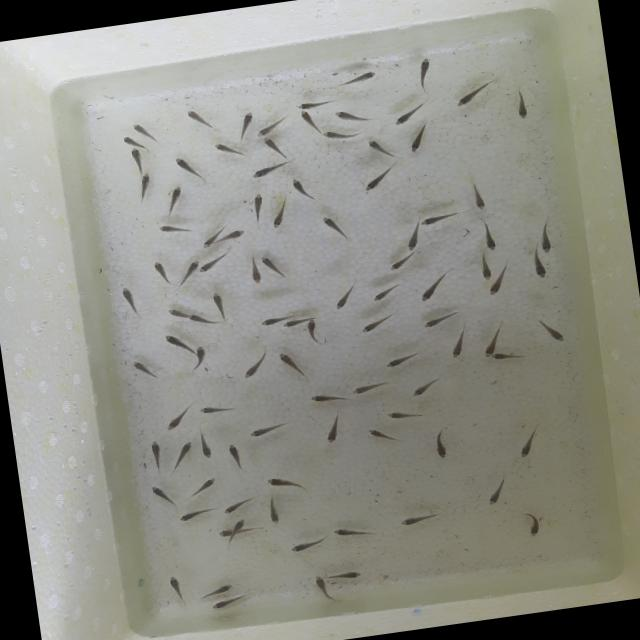fingerling: (270, 344, 316, 385), (388, 96, 432, 128), (264, 470, 314, 498), (159, 401, 200, 434), (412, 270, 452, 303), (408, 55, 440, 95), (451, 81, 497, 108), (319, 210, 349, 248), (381, 348, 428, 371), (331, 521, 378, 544), (236, 350, 272, 380), (218, 493, 266, 515), (413, 311, 465, 331), (283, 534, 331, 555), (384, 404, 429, 426), (318, 411, 348, 444), (210, 140, 250, 164), (485, 266, 517, 296), (358, 311, 398, 335), (483, 474, 513, 506), (518, 508, 546, 542), (334, 70, 381, 90), (475, 322, 499, 361), (516, 424, 542, 460), (310, 571, 339, 603), (509, 88, 536, 122), (362, 167, 398, 192), (329, 282, 359, 312), (167, 440, 197, 470), (417, 210, 469, 227), (252, 117, 294, 138), (246, 162, 294, 180), (331, 106, 376, 125), (208, 592, 255, 610), (322, 126, 364, 146), (269, 197, 293, 232), (188, 475, 228, 496), (258, 252, 290, 278), (398, 511, 444, 529), (175, 258, 202, 288), (130, 355, 160, 382), (147, 479, 177, 506), (246, 194, 271, 226), (155, 220, 195, 240), (248, 420, 288, 440), (217, 523, 264, 540), (404, 128, 434, 154), (197, 253, 236, 273), (526, 250, 552, 280), (182, 106, 214, 130), (346, 378, 394, 394), (222, 439, 245, 472), (536, 220, 557, 256), (401, 222, 426, 252), (133, 120, 164, 144), (165, 571, 188, 603), (164, 331, 191, 358), (444, 333, 470, 361), (367, 282, 400, 304), (408, 378, 444, 398), (434, 426, 454, 462), (178, 506, 214, 526), (326, 564, 366, 582), (478, 218, 499, 252), (366, 425, 398, 447), (291, 176, 317, 203), (540, 319, 566, 346), (174, 156, 202, 181), (189, 310, 225, 329), (386, 252, 420, 272), (258, 310, 298, 327), (117, 284, 141, 312), (164, 186, 187, 215), (304, 390, 344, 406), (474, 252, 496, 281), (291, 98, 336, 112), (198, 402, 240, 417), (262, 499, 284, 527), (492, 349, 530, 365), (200, 582, 237, 598), (236, 111, 255, 142), (470, 183, 491, 211), (210, 288, 230, 317), (264, 136, 288, 160), (300, 108, 322, 134), (150, 258, 172, 284), (138, 172, 155, 205), (197, 428, 214, 461), (364, 138, 392, 158), (189, 346, 212, 370), (200, 226, 222, 251), (218, 225, 248, 243), (246, 256, 264, 286), (120, 132, 148, 150), (280, 314, 310, 330), (306, 316, 323, 344), (150, 439, 166, 468), (130, 147, 144, 176), (232, 516, 251, 530), (167, 306, 187, 319)
